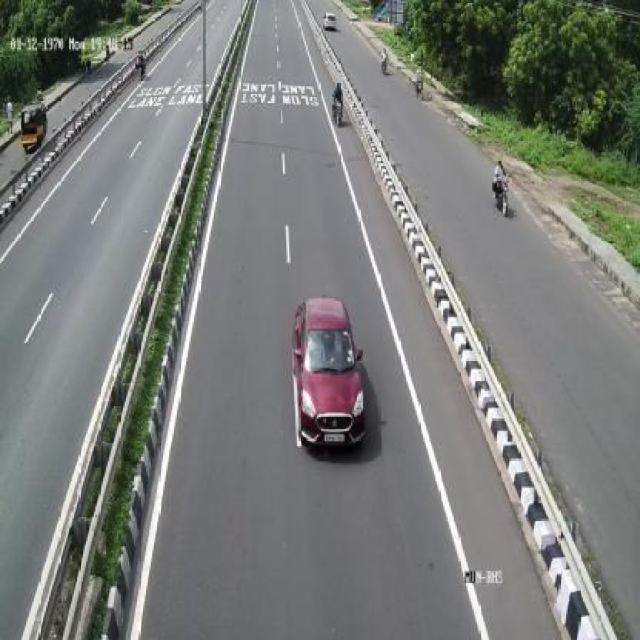car: (294, 288, 369, 455)
